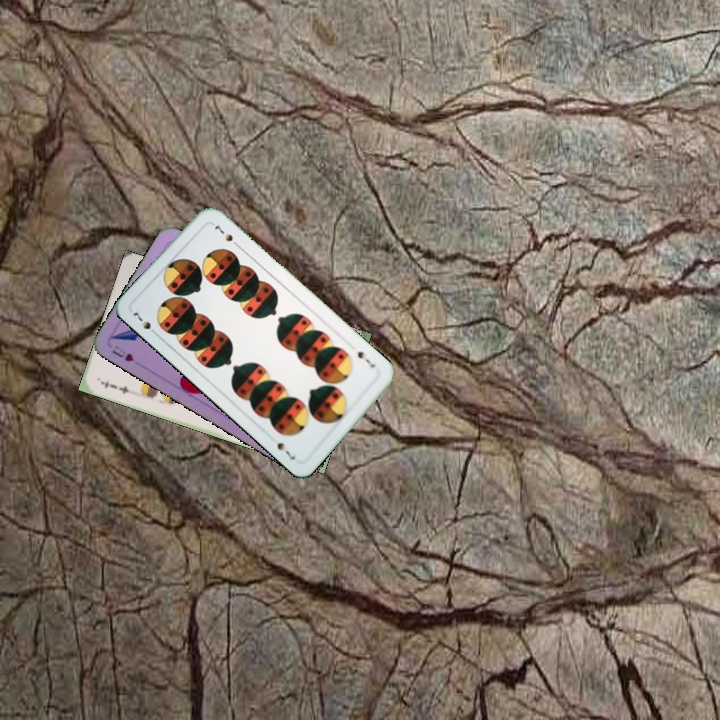E7: (96, 376, 132, 397)
HU: (108, 341, 137, 364)
S7: (128, 308, 161, 338), (353, 347, 378, 370)
